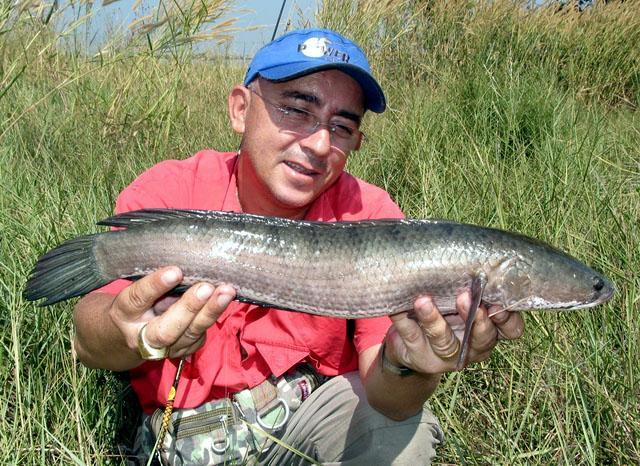Mulut: (543, 265, 633, 317)
Sirip Dada: (434, 264, 496, 452)
Sirip Ekor: (11, 230, 124, 327)
Sirip Punggung: (92, 199, 394, 249)
